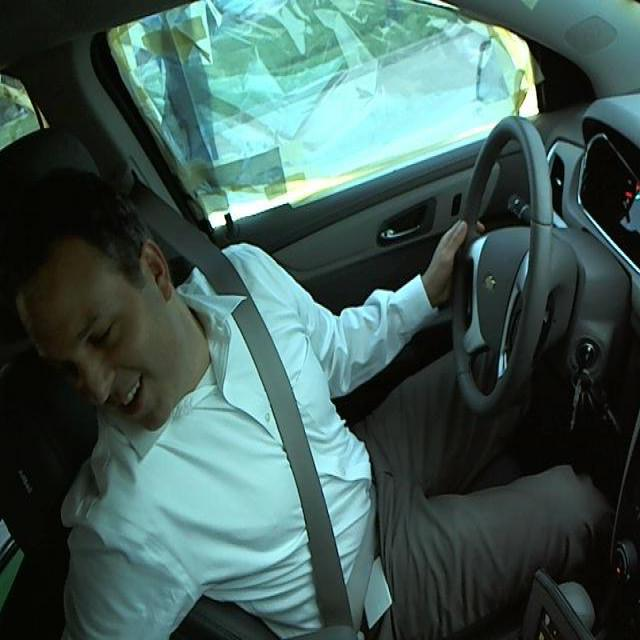seatbelt: (220, 306, 385, 630)
